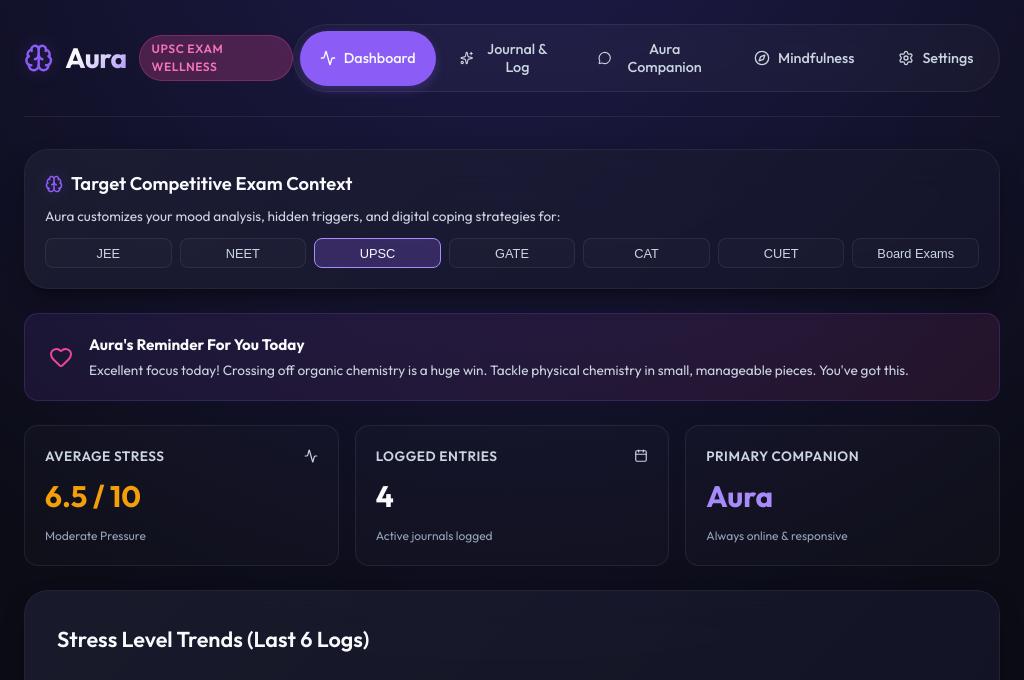
Test case: Aura Mental Wellness Tracker - App Component Tests › toggles interactive breathing guide on and off
The image size is (1024, 680).
Note: Navigate to mindfulness tab
Step 1. Click the tab "Mindfulness" → click(804, 58), box [734, 31, 874, 86]
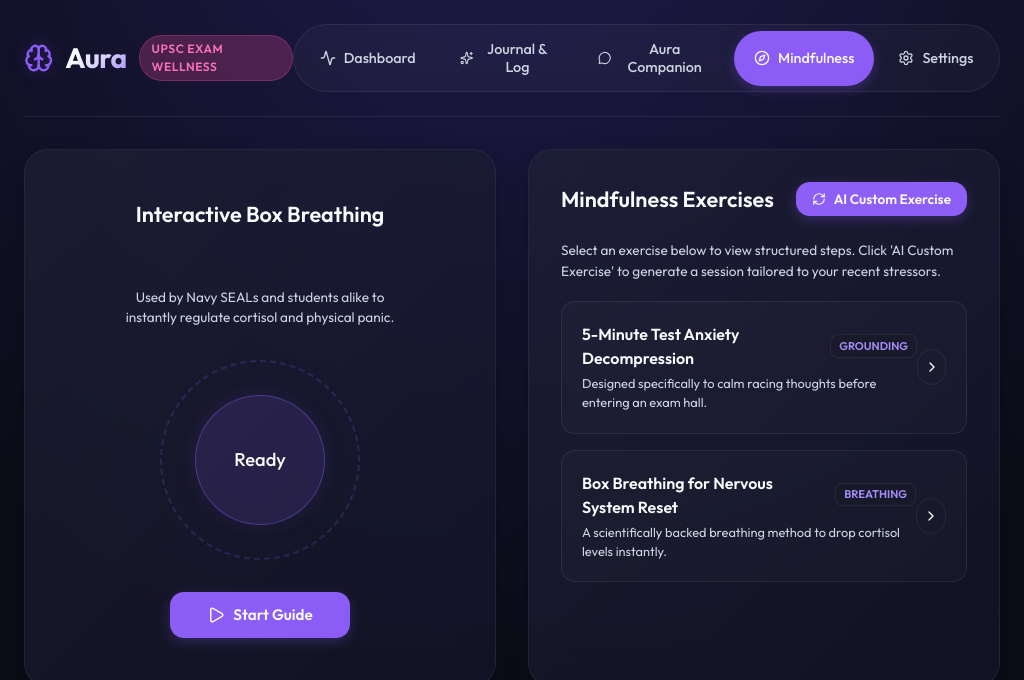
Result: the button with aria-label "Start box breathing guide" is shown
Note: Toggle start
Step 2. Click the button with aria-label "Start box breathing guide" → click(260, 615), box [170, 592, 350, 638]
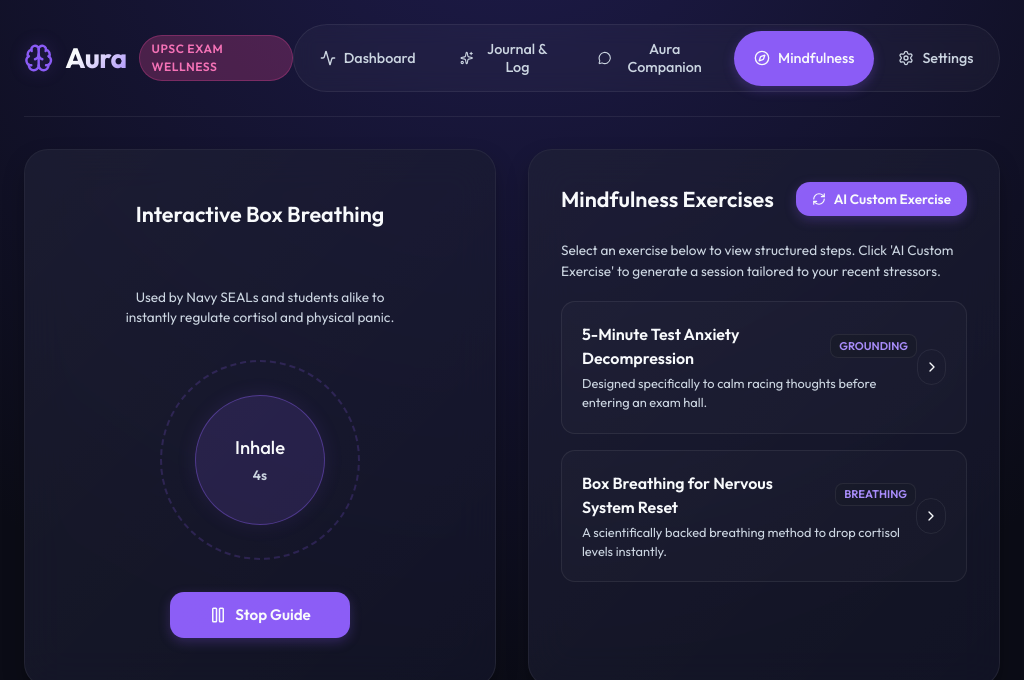
Result: the button with aria-label "Stop box breathing guide" is shown
Note: Toggle stop
Step 3. Click the button with aria-label "Stop box breathing guide" → click(260, 615), box [170, 592, 350, 638]
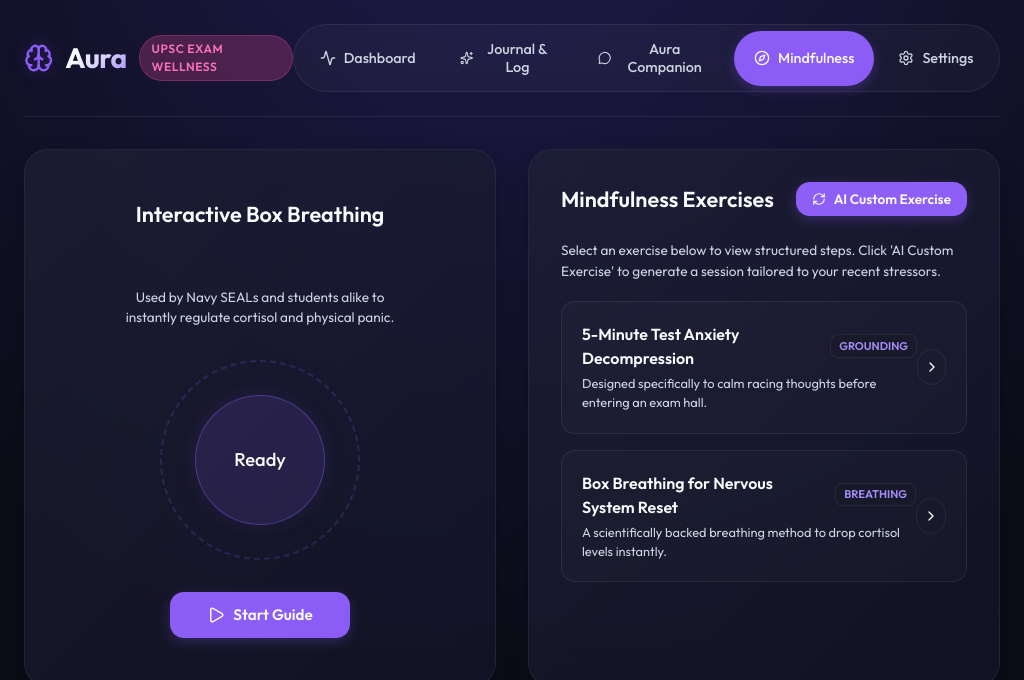
Result: the button with aria-label "Start box breathing guide" is shown at [170, 592, 350, 638]
